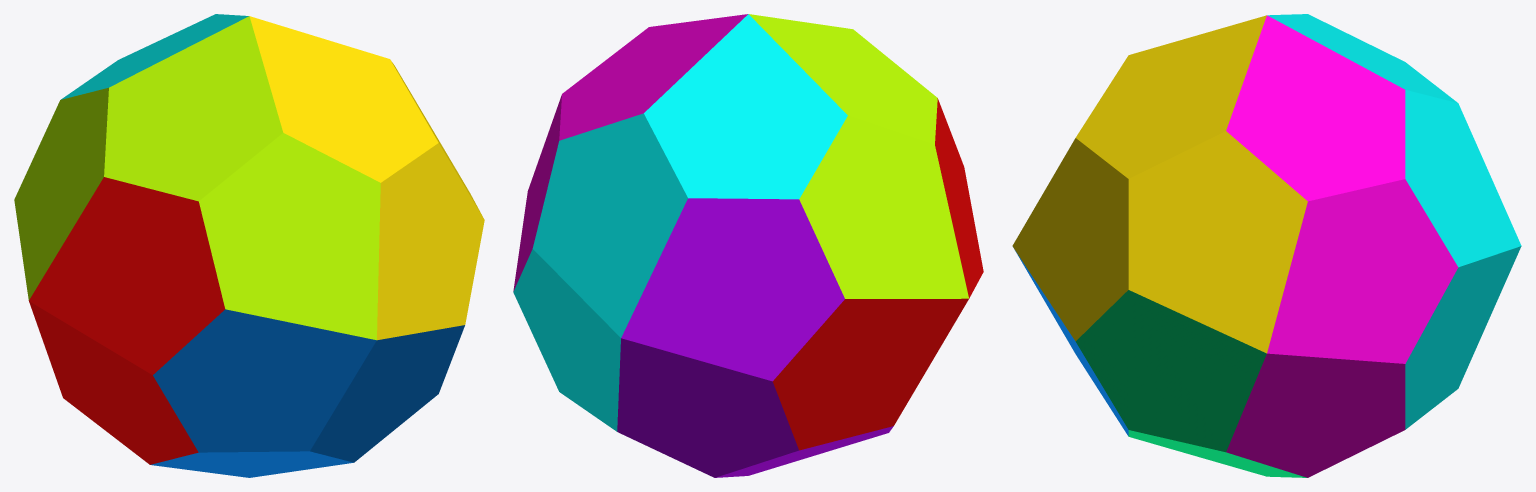
Rendered from animated.glb.
3 renders of one model, left to right at view 1: azimuth 30°, elevation 25°; view 2: azimuth 150°, elevation 25°; view 3: azimuth 270°, elevation 25°, orthographic.
Parts seen in each view (by area): view 1: Mesh_11, Mesh_1, Mesh_18, Mesh_17, Mesh_13, Mesh_23, Mesh_2, Mesh_3, Mesh_14, Mesh_8, Mesh_9; view 2: Mesh_19, Mesh_9, Mesh_3, Mesh_15, Mesh_0, Mesh_10, Mesh_17, Mesh_22, Mesh_21, Mesh_1, Mesh_5, Mesh_16; view 3: Mesh_7, Mesh_5, Mesh_21, Mesh_4, Mesh_13, Mesh_6, Mesh_23, Mesh_15, Mesh_22, Mesh_9, Mesh_20, Mesh_14.
Part boxes in pixels (box(x1,y1,x2,y2)): Mesh_11: box(199, 133, 380, 340); Mesh_1: box(29, 177, 224, 374); Mesh_18: box(153, 309, 376, 452); Mesh_17: box(104, 16, 283, 201); Mesh_13: box(249, 16, 438, 182); Mesh_23: box(377, 143, 484, 340); Mesh_2: box(29, 301, 198, 464); Mesh_3: box(14, 87, 108, 300); Mesh_14: box(310, 325, 464, 462); Mesh_8: box(151, 451, 353, 477); Mesh_9: box(61, 14, 248, 99); Mesh_19: box(621, 198, 844, 381); Mesh_9: box(644, 14, 847, 199); Mesh_3: box(799, 115, 968, 298); Mesh_15: box(532, 113, 687, 337); Mesh_0: box(772, 298, 968, 450); Mesh_10: box(617, 338, 798, 477); Mesh_17: box(749, 14, 937, 144); Mesh_22: box(513, 249, 620, 431); Mesh_21: box(559, 14, 747, 140); Mesh_1: box(935, 98, 983, 298); Mesh_5: box(513, 95, 561, 291); Mesh_16: box(715, 426, 893, 477); Mesh_7: box(1128, 131, 1307, 353); Mesh_5: box(1267, 179, 1458, 363); Mesh_21: box(1226, 15, 1405, 201); Mesh_4: box(1075, 290, 1266, 452); Mesh_13: box(1075, 15, 1266, 178); Mesh_6: box(1226, 353, 1405, 477); Mesh_23: box(1012, 138, 1128, 341); Mesh_15: box(1405, 90, 1521, 267); Mesh_22: box(1405, 246, 1521, 429); Mesh_9: box(1267, 14, 1457, 102); Mesh_20: box(1128, 430, 1306, 477); Mesh_14: box(1013, 247, 1128, 436).
Size of the model in its own units: 4.59 by 4.59 by 4.59.
